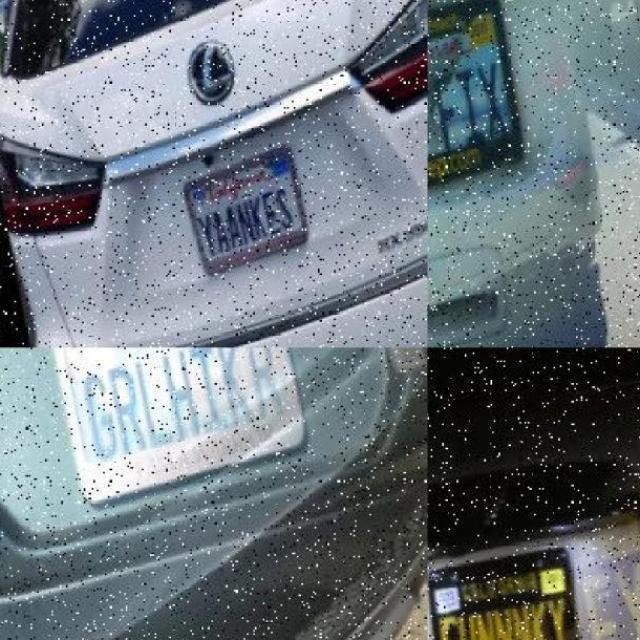License Plate: (39, 347, 321, 511), (427, 0, 541, 208), (178, 149, 322, 275), (428, 541, 596, 639)
